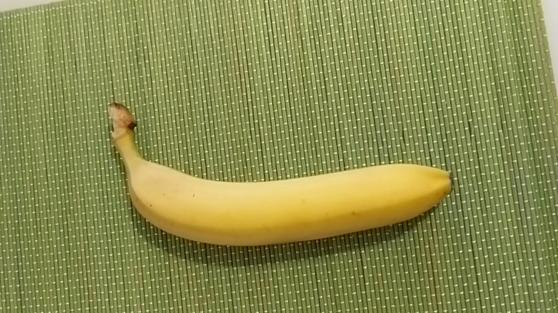banana: (107, 103, 453, 250)
